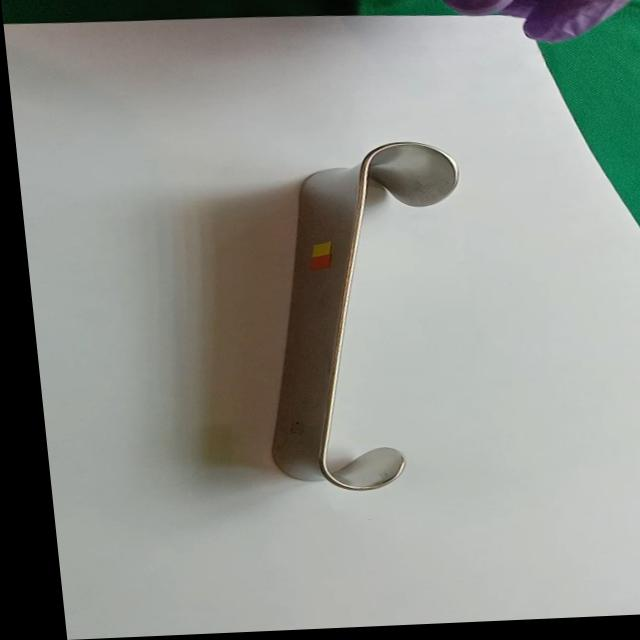CheekRetractor: (234, 140, 484, 497)
